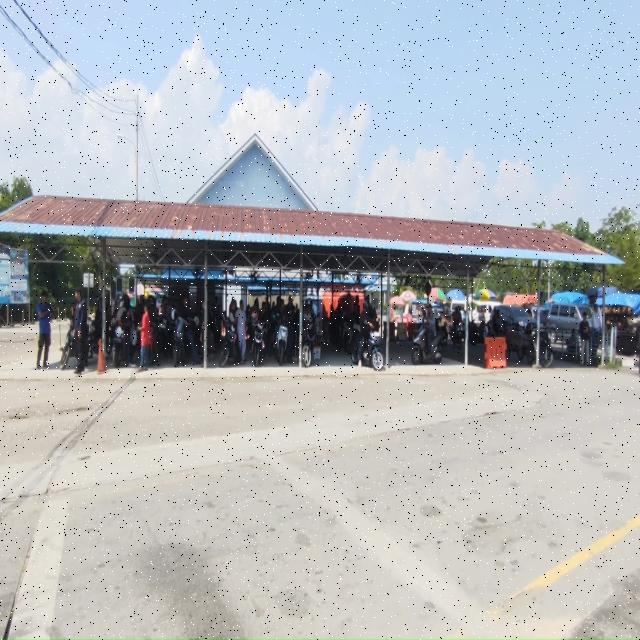Golongan II: (172, 312, 200, 367), (411, 324, 443, 365), (352, 331, 384, 372), (507, 321, 534, 364), (219, 316, 240, 368), (526, 329, 554, 368), (60, 320, 76, 370), (111, 319, 126, 368), (172, 316, 186, 367), (157, 316, 174, 357), (302, 320, 316, 367), (251, 321, 265, 366), (276, 324, 289, 366), (87, 320, 99, 359), (469, 320, 486, 346), (341, 318, 353, 353), (450, 320, 465, 348)
